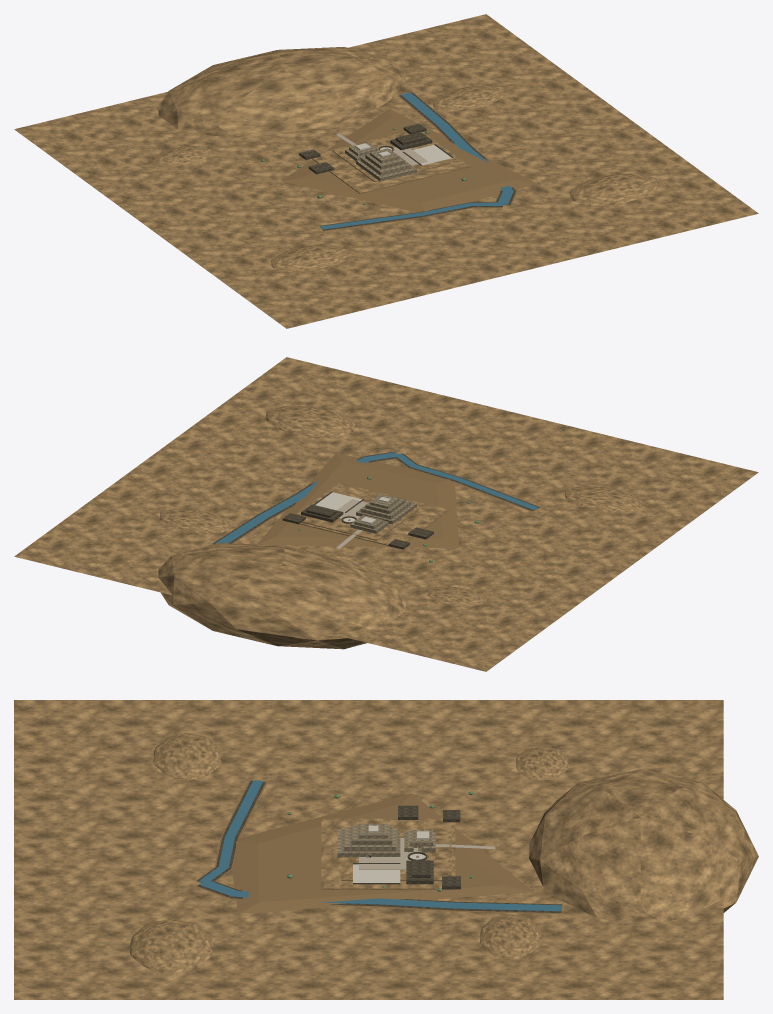
The picture shows the model from 3 angles, top to bottom: view 1: azimuth 30°, elevation 25°; view 2: azimuth 150°, elevation 25°; view 3: azimuth 270°, elevation 25°; orthographic projection. The views are drawn at different scales.
Parts seen in each view (by area): view 1: GEO-Chavin_LOD0_Terrain, GEO-Chavin_LOD0_City; view 2: GEO-Chavin_LOD0_Terrain, GEO-Chavin_LOD0_City; view 3: GEO-Chavin_LOD0_Terrain, GEO-Chavin_LOD0_City.
Part boxes in pixels (x1,y1,x2,y2): GEO-Chavin_LOD0_Terrain: [14, 14, 758, 328]; GEO-Chavin_LOD0_City: [299, 123, 453, 181]; GEO-Chavin_LOD0_Terrain: [14, 357, 758, 671]; GEO-Chavin_LOD0_City: [282, 491, 433, 549]; GEO-Chavin_LOD0_Terrain: [14, 700, 758, 999]; GEO-Chavin_LOD0_City: [337, 805, 460, 889].
Size of the model in its own units: 900 by 110 by 945.
12 materials, 5 textured.
